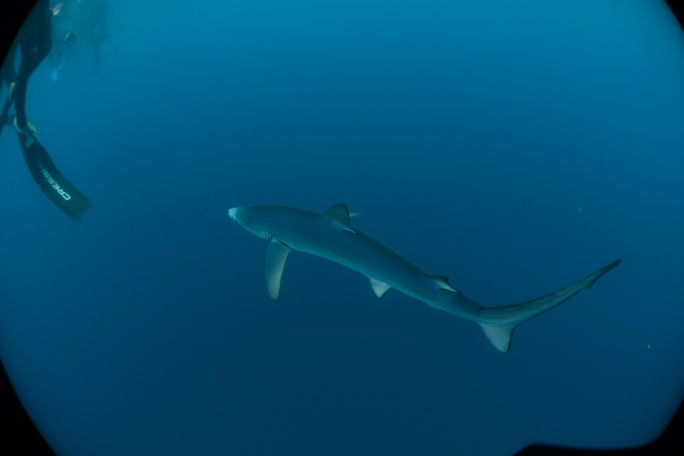Azul: (207, 182, 643, 389)
